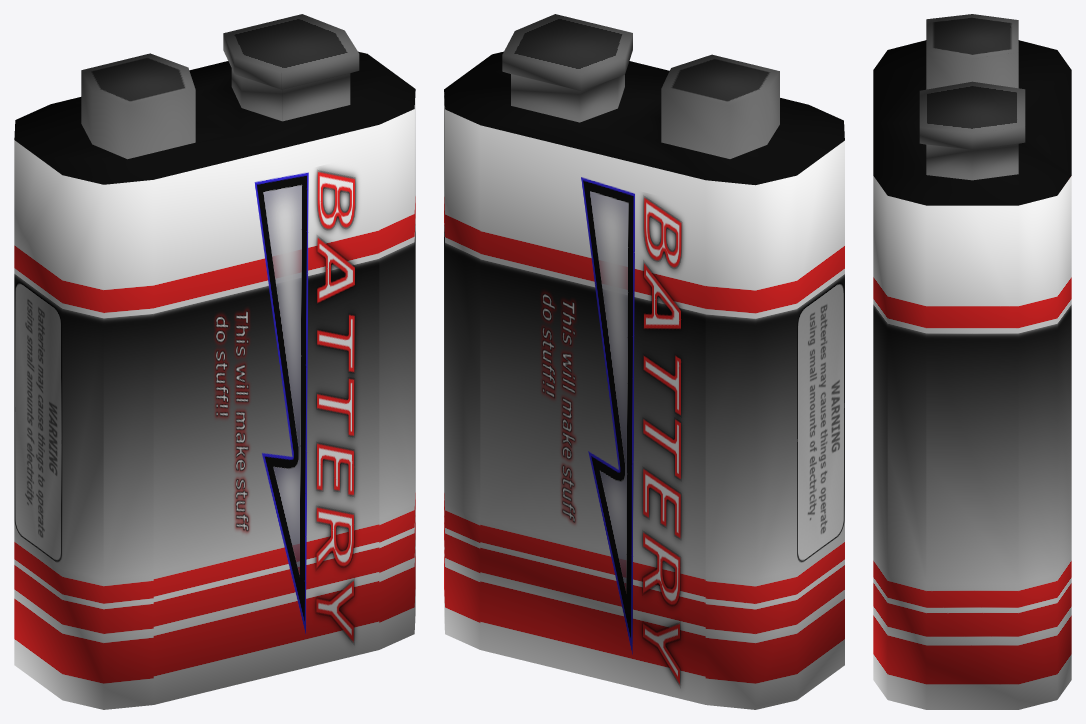
File: battery.fbx
3 views of the same model, side by side, from view 1: azimuth 30°, elevation 25°; view 2: azimuth 150°, elevation 25°; view 3: azimuth 270°, elevation 25° (orthographic). The views are drawn at different scales.
Visible parts, largest first — view 1: Cube; view 2: Cube; view 3: Cube.
Boxes of the visible parts, x1=… form: Cube: x1=14, y1=14, x2=415, y2=709; Cube: x1=444, y1=14, x2=844, y2=709; Cube: x1=873, y1=14, x2=1071, y2=709.
Bounding box in the file's own units: 1.7 × 2.67 × 0.8623.
